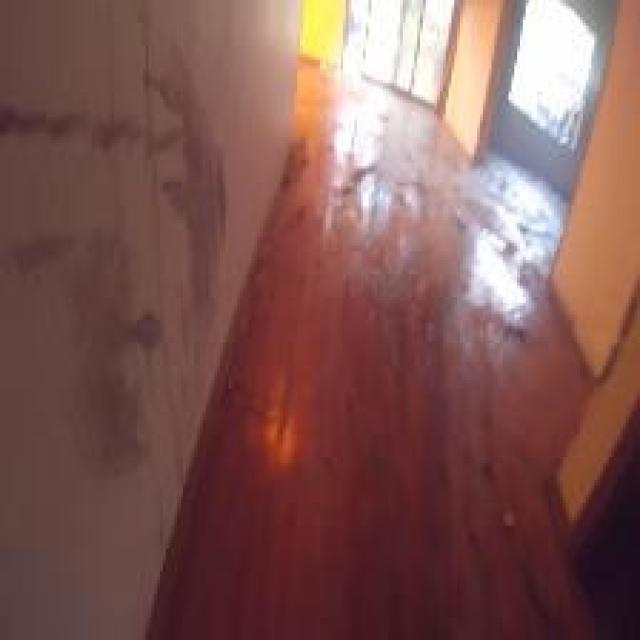other: (287, 0, 362, 89), (246, 398, 310, 479)
